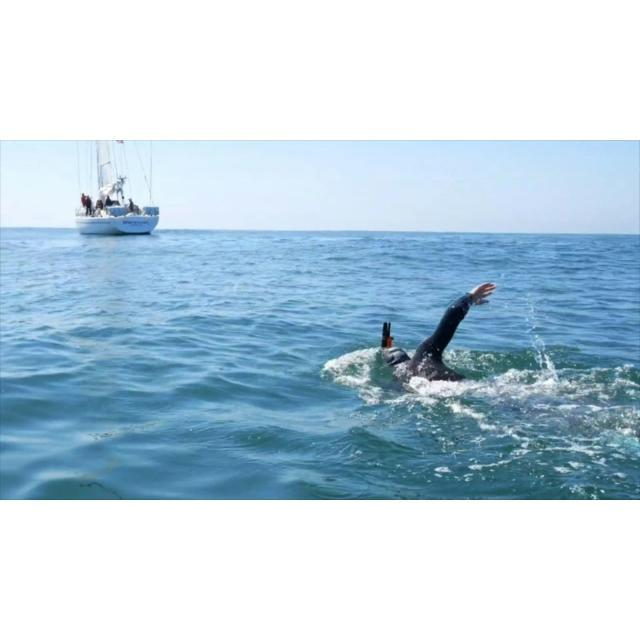human: (378, 279, 502, 395)
